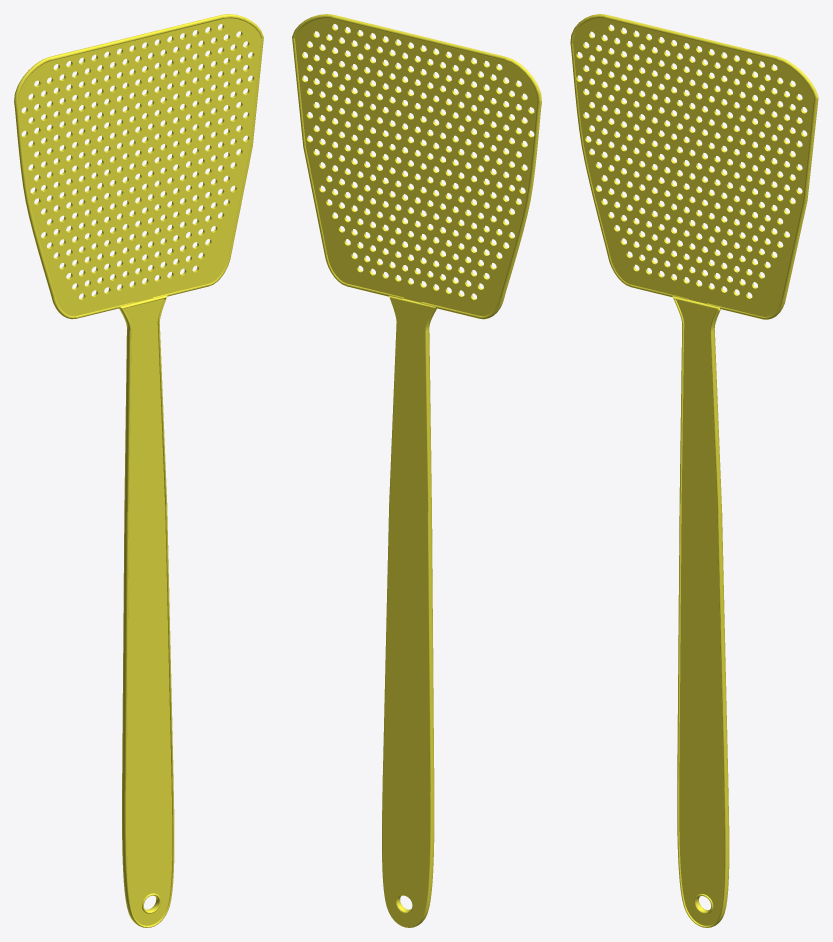
Rendered from FlySwatter.fbx.
The picture shows the model from 3 angles, left to right: view 1: azimuth 30°, elevation 25°; view 2: azimuth 150°, elevation 25°; view 3: azimuth 330°, elevation 25°; orthographic projection.
Visible parts, largest first — view 1: Shape01, Rectangle1, Rectangle0, Shape02; view 2: Shape01, Rectangle1, Rectangle0, Shape02; view 3: Shape01, Rectangle1, Rectangle0, Shape02.
Boxes of the visible parts, x1,y1,x2,y2 form: Shape01: [18, 18, 261, 316]; Rectangle1: [123, 299, 172, 925]; Rectangle0: [119, 295, 174, 927]; Shape02: [14, 14, 263, 319]; Shape01: [295, 18, 537, 316]; Rectangle1: [382, 297, 433, 927]; Rectangle0: [382, 295, 436, 927]; Shape02: [292, 14, 541, 319]; Shape01: [573, 18, 814, 316]; Rectangle1: [676, 299, 724, 925]; Rectangle0: [672, 296, 729, 927]; Shape02: [570, 14, 818, 319].
Size of the model in its own units: 232 by 795 by 6.2.
